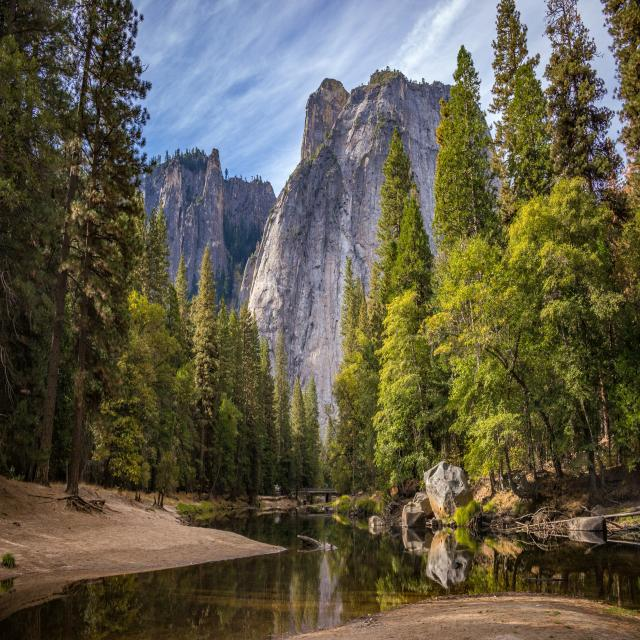Forest: (0, 11, 640, 531)
